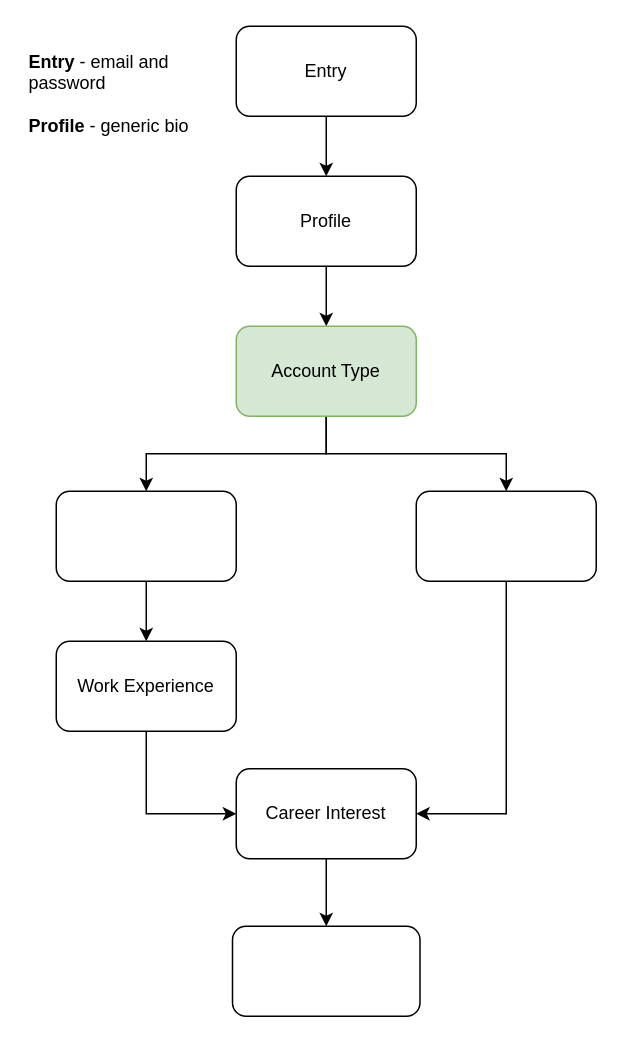
Image size: 623x1043. Some labels were removed from this diagram. Here are the shapes that lost their labels. From the top down, the centre of each, then its label:
At (x=145, y=535): "Fun Questions".
At (x=505, y=535): "Education".
At (x=325, y=970): "Signup Complete".
